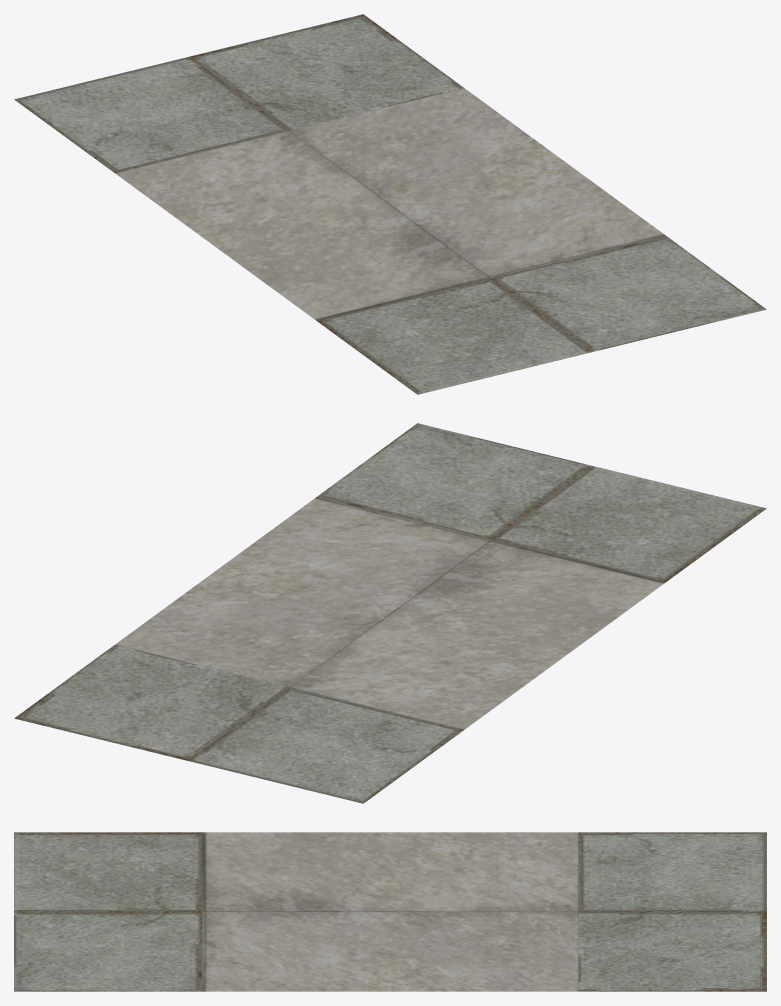
The model's file is floor_mix_2x1_c.fbx.
3 renders of one model, top to bottom at view 1: azimuth 30°, elevation 25°; view 2: azimuth 150°, elevation 25°; view 3: azimuth 270°, elevation 25°, orthographic. The views are drawn at different scales.
Visible parts, largest first — view 1: floor_mix_2x1_c; view 2: floor_mix_2x1_c; view 3: floor_mix_2x1_c.
Boxes of the visible parts, x1,y1,x2,y2 form: floor_mix_2x1_c: [14, 14, 766, 394]; floor_mix_2x1_c: [14, 423, 766, 803]; floor_mix_2x1_c: [14, 832, 766, 991].
Bounding box in the file's own units: 100 × 2.88e-20 × 200.
